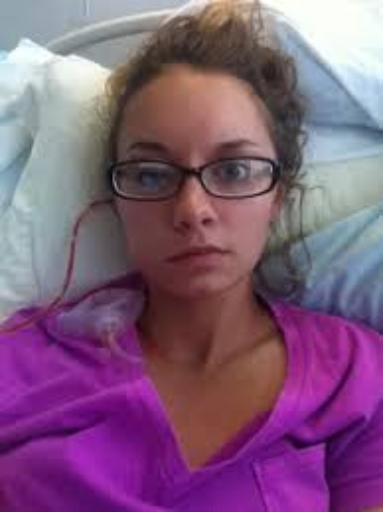left_eye: (218, 163, 272, 187)
left_lip_corner: (221, 246, 237, 259)
right_eye: (122, 170, 178, 202)
right_lip_corner: (164, 253, 177, 270)
